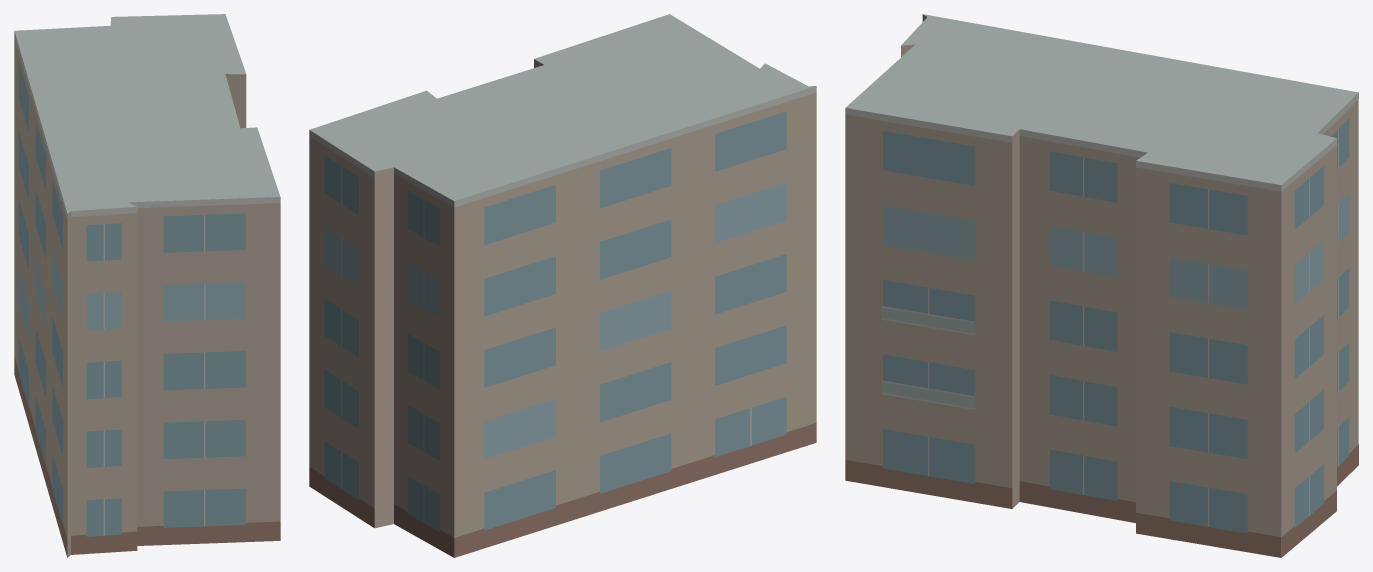
Rendered from survey-upis-32693486.glb.
3 views of the same model, side by side, from view 1: azimuth 30°, elevation 25°; view 2: azimuth 150°, elevation 25°; view 3: azimuth 270°, elevation 25° (orthographic). The views are drawn at different scales.
Visible parts, largest first — view 1: survey-upis-32693486.tmp; view 2: survey-upis-32693486.tmp; view 3: survey-upis-32693486.tmp.
Part boxes in pixels (x1,y1,x2,y2): survey-upis-32693486.tmp: (14, 14, 280, 557); survey-upis-32693486.tmp: (309, 14, 816, 557); survey-upis-32693486.tmp: (845, 14, 1358, 557).
Size of the model in its own units: 13.5 by 13.7 by 17.11.
